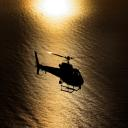helicopter: (26, 44, 98, 96)
